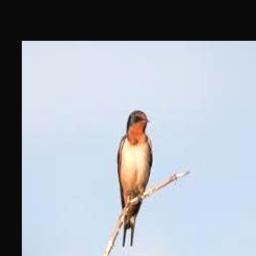Swallow: (118, 110, 152, 246)
